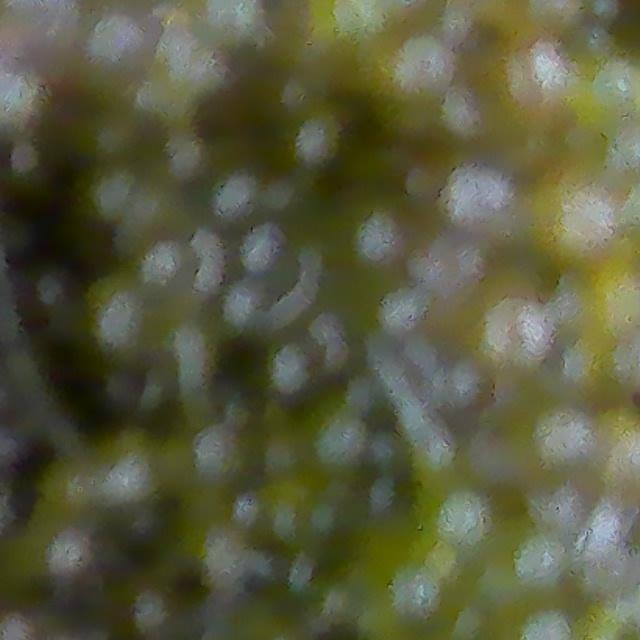SeaGrape: (72, 4, 147, 82), (195, 0, 265, 51), (431, 488, 484, 544)
